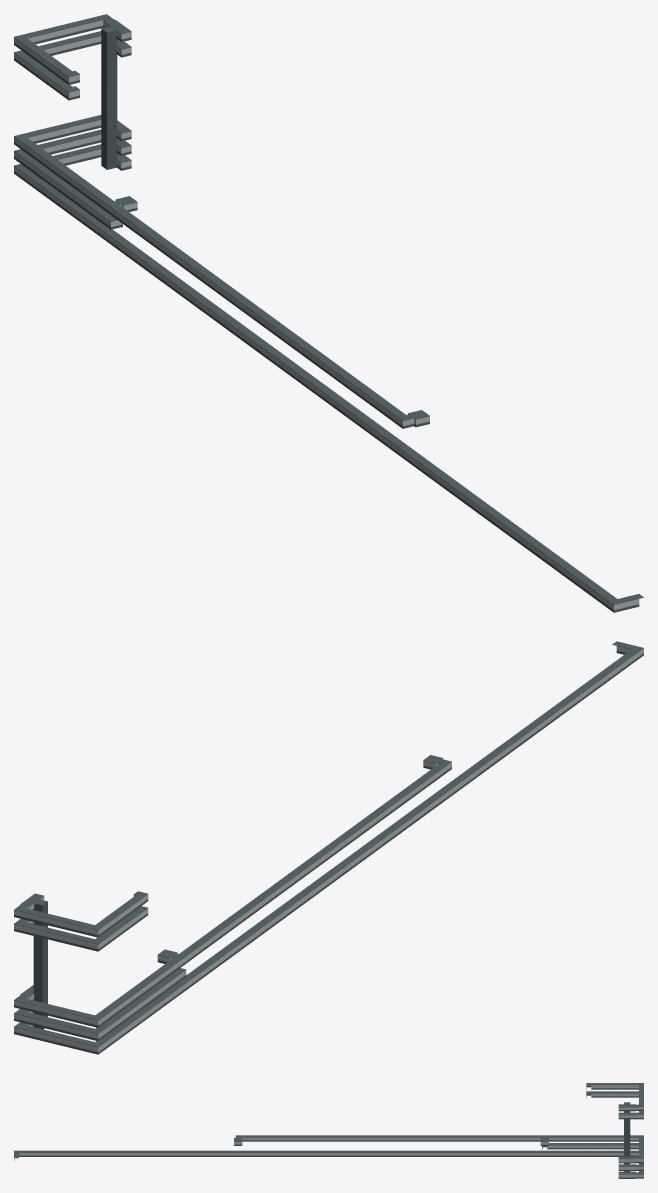
Rendered from AST-STF-009_pool_market.glb.
3 renders of one model, top to bottom at view 1: azimuth 30°, elevation 25°; view 2: azimuth 150°, elevation 25°; view 3: azimuth 270°, elevation 25°, orthographic. The views are drawn at different scales.
Visible parts, largest first — view 1: DERIVATIVE_-2_-25_4_ASTRAEA_staff_bluegrey_paint, DERIVATIVE_-2_-25_0_ASTRAEA_staff_bluegrey_paint; view 2: DERIVATIVE_-2_-25_4_ASTRAEA_staff_bluegrey_paint, DERIVATIVE_-3_-25_1_ASTRAEA_staff_bluegrey_paint; view 3: DERIVATIVE_-3_-25_6_ASTRAEA_staff_bluegrey_paint, DERIVATIVE_-3_-23_1_ASTRAEA_staff_bluegrey_paint, DERIVATIVE_-3_-24_1_ASTRAEA_staff_bluegrey_paint, DERIVATIVE_-2_-25_3_ASTRAEA_staff_bluegrey_paint, DERIVATIVE_-3_-22_1_ASTRAEA_staff_bluegrey_paint, DERIVATIVE_-3_-23_0_ASTRAEA_staff_bluegrey_paint, DERIVATIVE_-3_-24_0_ASTRAEA_staff_bluegrey_paint, DERIVATIVE_-3_-25_5_ASTRAEA_staff_bluegrey_paint, DERIVATIVE_-3_-25_1_ASTRAEA_staff_bluegrey_paint, DERIVATIVE_-3_-25_5_ASTRAEA_staff_white_paint, DERIVATIVE_-3_-25_6_ASTRAEA_staff_white_paint, DERIVATIVE_-2_-25_1_ASTRAEA_staff_bluegrey_paint (+4 smaller).
Part boxes in pixels (bbox=[...]): DERIVATIVE_-2_-25_4_ASTRAEA_staff_bluegrey_paint: bbox=[101, 29, 117, 132]; DERIVATIVE_-2_-25_0_ASTRAEA_staff_bluegrey_paint: bbox=[61, 128, 128, 170]; DERIVATIVE_-2_-25_4_ASTRAEA_staff_bluegrey_paint: bbox=[33, 902, 47, 995]; DERIVATIVE_-3_-25_1_ASTRAEA_staff_bluegrey_paint: bbox=[61, 999, 125, 1032]; DERIVATIVE_-3_-25_6_ASTRAEA_staff_bluegrey_paint: bbox=[591, 1083, 643, 1102]; DERIVATIVE_-3_-23_1_ASTRAEA_staff_bluegrey_paint: bbox=[556, 1135, 584, 1145]; DERIVATIVE_-3_-24_1_ASTRAEA_staff_bluegrey_paint: bbox=[584, 1135, 612, 1145]; DERIVATIVE_-2_-25_3_ASTRAEA_staff_bluegrey_paint: bbox=[624, 1119, 629, 1156]; DERIVATIVE_-3_-22_1_ASTRAEA_staff_bluegrey_paint: bbox=[527, 1135, 556, 1145]; DERIVATIVE_-3_-23_0_ASTRAEA_staff_bluegrey_paint: bbox=[556, 1148, 584, 1156]; DERIVATIVE_-3_-24_0_ASTRAEA_staff_bluegrey_paint: bbox=[584, 1148, 612, 1156]; DERIVATIVE_-3_-25_5_ASTRAEA_staff_bluegrey_paint: bbox=[591, 1091, 639, 1111]; DERIVATIVE_-3_-25_1_ASTRAEA_staff_bluegrey_paint: bbox=[613, 1135, 641, 1146]; DERIVATIVE_-3_-25_5_ASTRAEA_staff_white_paint: bbox=[591, 1093, 638, 1096]; DERIVATIVE_-3_-25_6_ASTRAEA_staff_white_paint: bbox=[591, 1085, 638, 1088]; DERIVATIVE_-2_-25_1_ASTRAEA_staff_bluegrey_paint: bbox=[618, 1146, 641, 1166].
Size of the model in its own units: 40 by 56.08 by 444.
5 materials, 5 textured.
